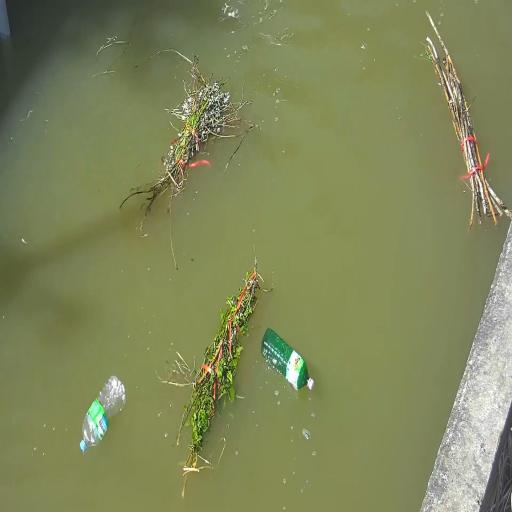plastic: (76, 364, 128, 464), (258, 327, 317, 396)
twig: (422, 9, 507, 229), (172, 262, 257, 464), (144, 73, 237, 213)
